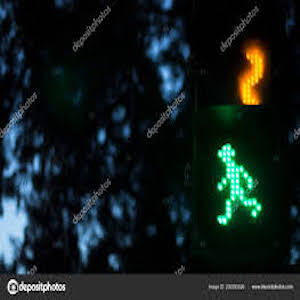green: (201, 138, 262, 224)
